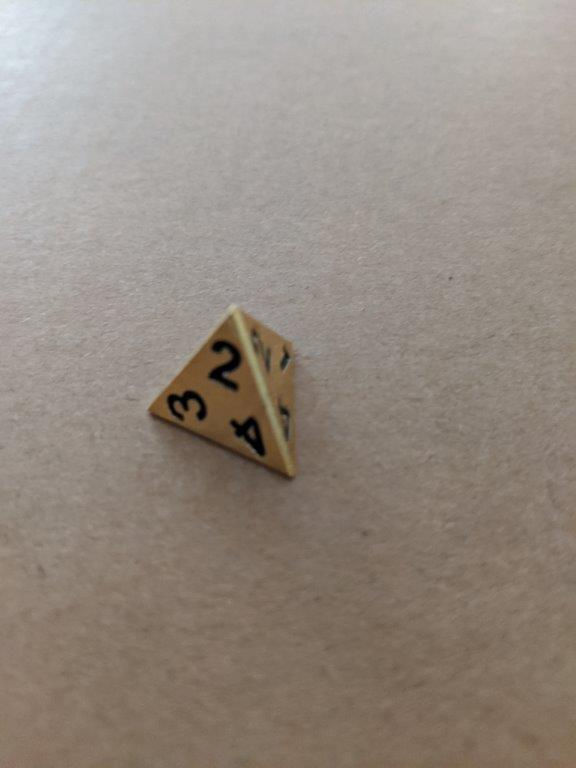d4-2: (136, 300, 305, 483)
